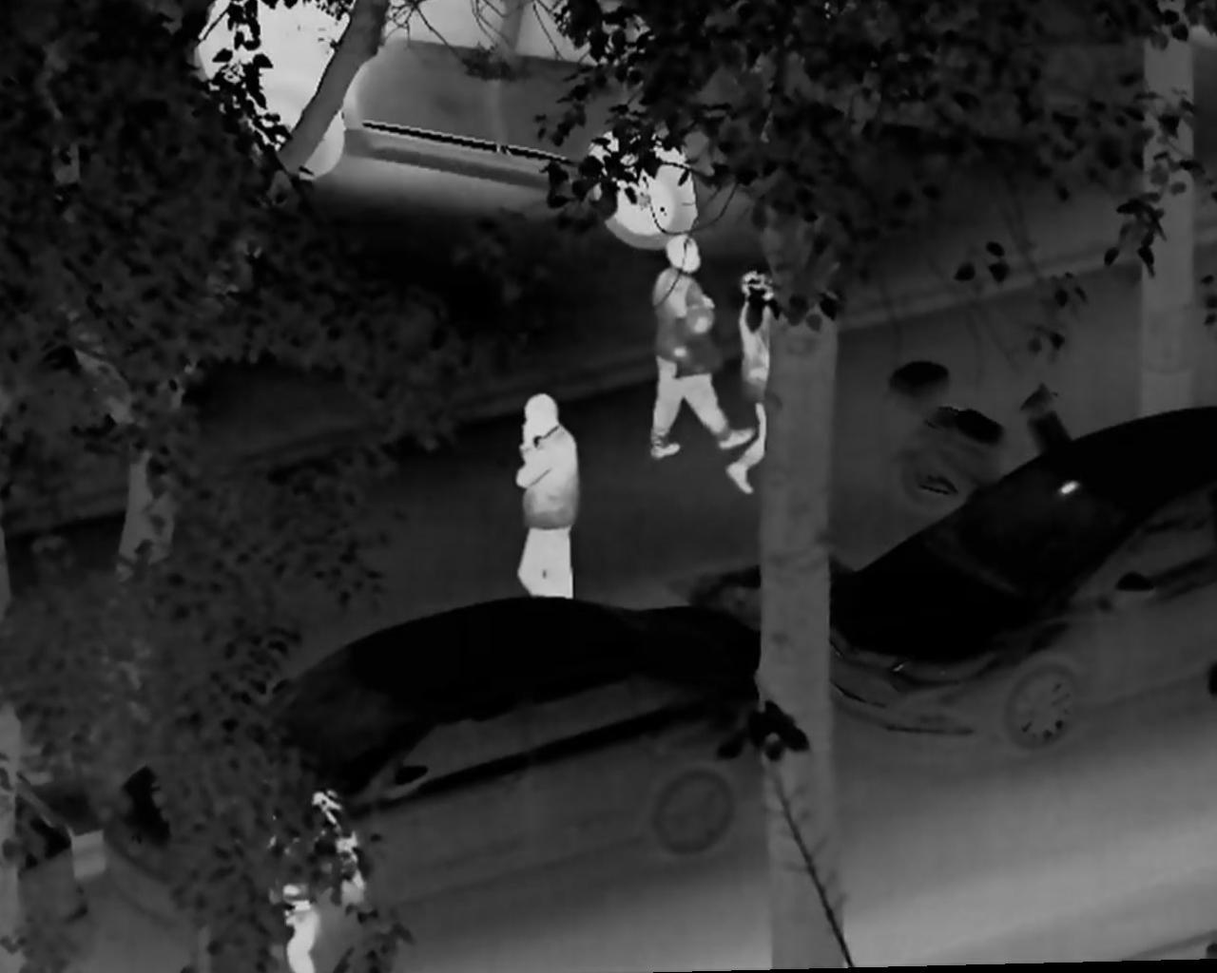person: (641, 228, 759, 460), (241, 768, 372, 973), (718, 273, 811, 498), (506, 390, 595, 608)
